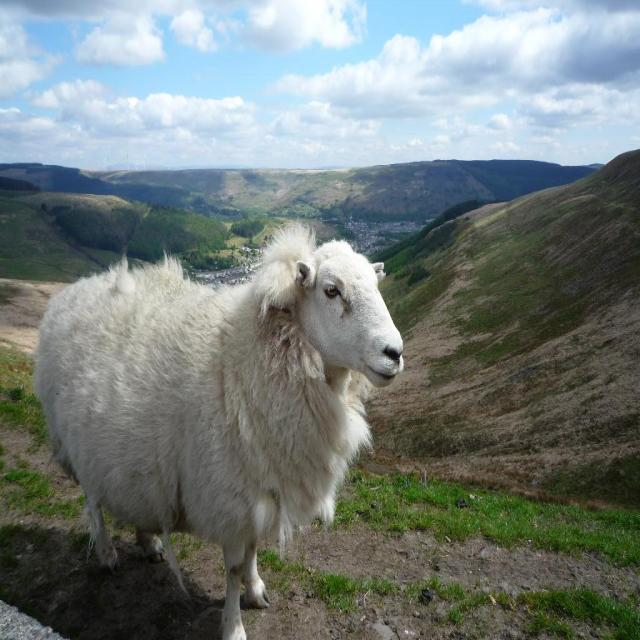Sheep: (32, 214, 403, 640)
